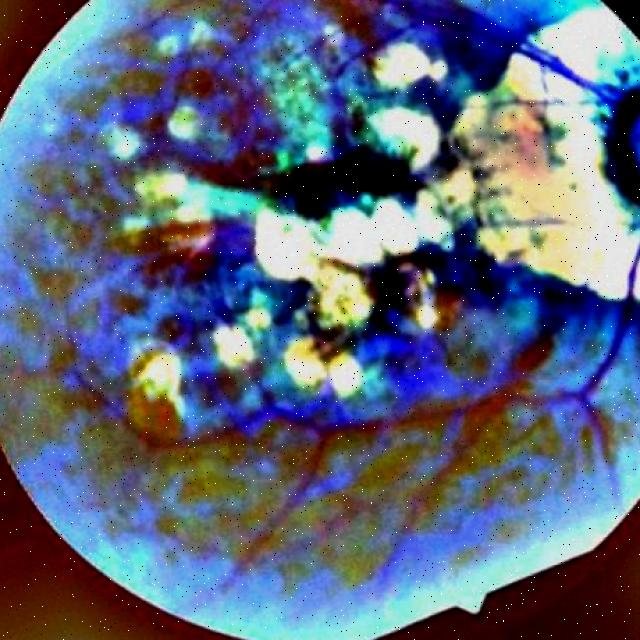Macula: (233, 151, 421, 218)
Nerves: (331, 241, 640, 533), (336, 0, 612, 105)
Optic Disk: (472, 6, 640, 295)
